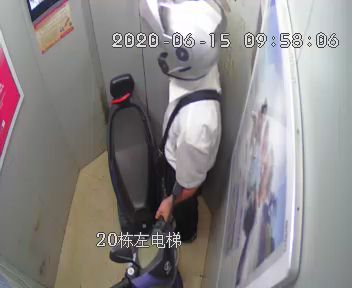Electric-bicycle: (103, 73, 181, 287)
